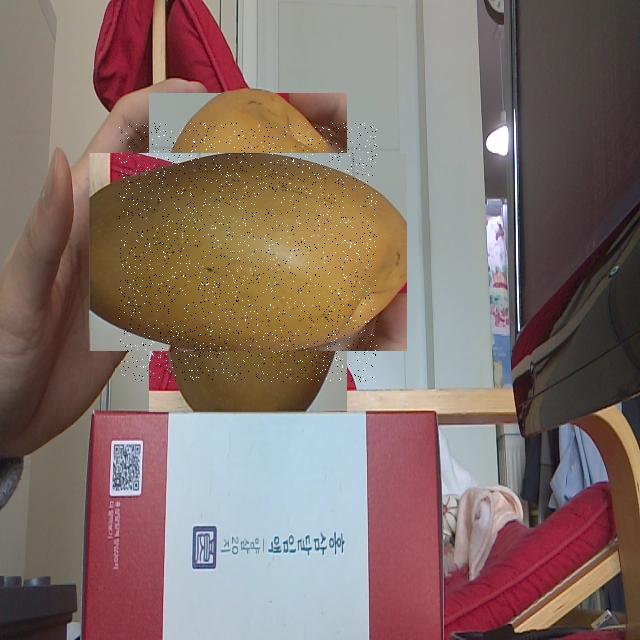pear: (119, 123, 377, 382)
